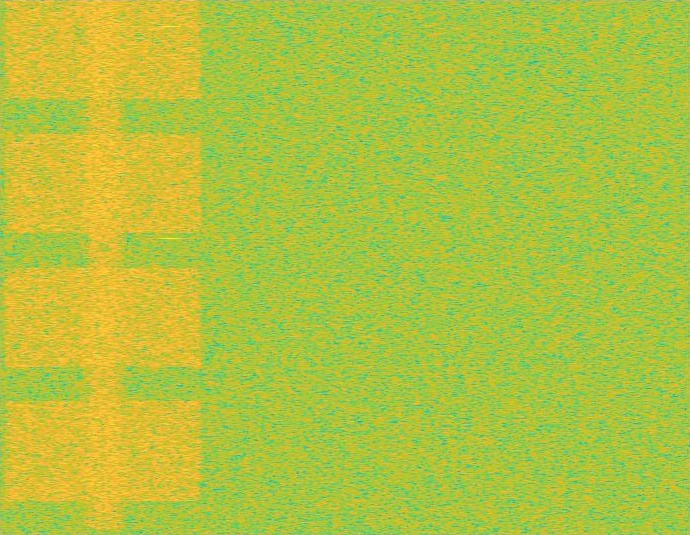5G: (0, 0, 207, 534)
DSSS: (80, 0, 127, 534)
Radar: (163, 0, 177, 534)
